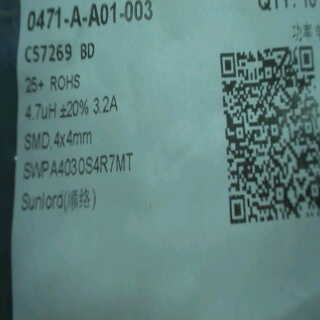4.7uH: (22, 97, 59, 125)
